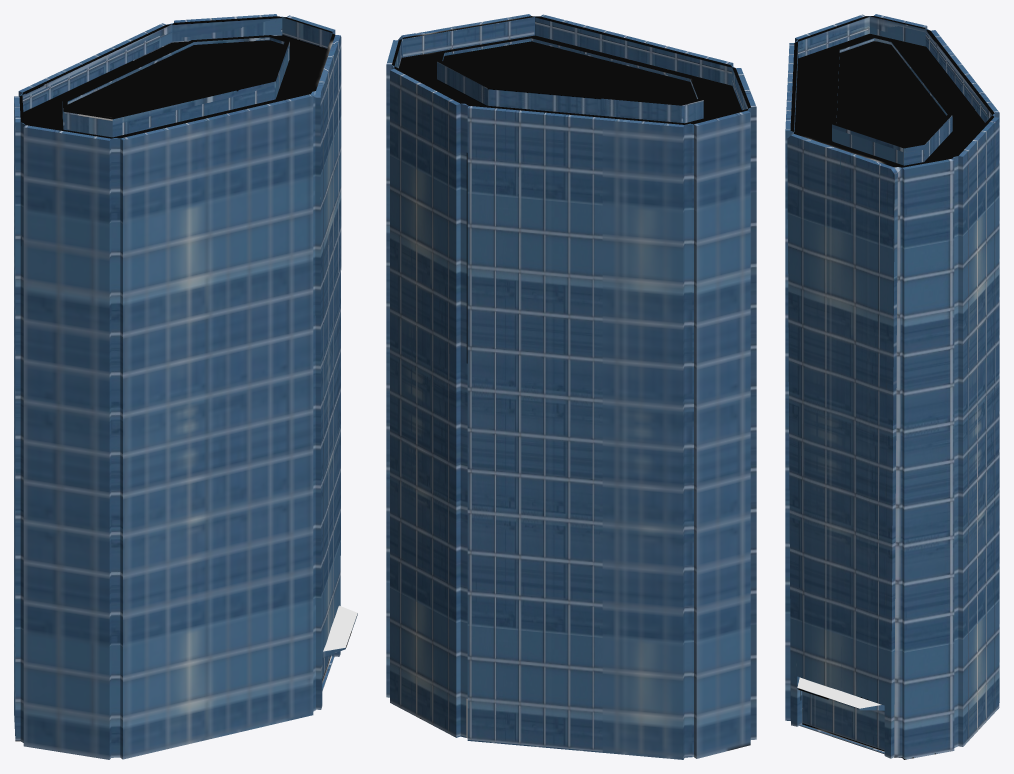
File: 125 Old Broad St (Marked).glb
3 renders of one model, left to right at view 1: azimuth 30°, elevation 25°; view 2: azimuth 150°, elevation 25°; view 3: azimuth 270°, elevation 25°, orthographic. The views are drawn at different scales.
Parts seen in each view (by area): view 1: 125 OldBroad Run, 125 OldBroad Run.022, 125 OldBroad Run.024, 125 OldBroad Run.023, 125 OldBroad Run.026, 125 OldBroad Run.028, 125 OldBroad Run.032, 125 OldBroad Run.027, 125 OldBroad Run.025, 125 OldBroad Run.030, 125 OldBroad Run.029, 125 OldBroad Run.031 (+7 smaller); view 2: 125 OldBroad Run, 125 OldBroad Run.015, 125 OldBroad Run.018, 125 OldBroad Run.020, 125 OldBroad Run.012, 125 OldBroad Run.013, 125 OldBroad Run.017, 125 OldBroad Run.021, 125 OldBroad Run.016, 125 OldBroad Run.019, 125 OldBroad Run.014, 125 OldBroad Run.009 (+3 smaller); view 3: 125 OldBroad Run, 125 OldBroad Run.006, 125 OldBroad Run.007, 125 OldBroad Run.003, 125 OldBroad Run.001, 125 OldBroad Run.005, 125 OldBroad Run.002, 125 OldBroad Run.004, 125 OldBroad Run.009, 125 OldBroad Run.010, 125 OldBroad Run.011, 125 OldBroad Run.008.
Part boxes in pixels (left/top/right/bottom): 125 OldBroad Run: left=14, top=14, right=357, bottom=759; 125 OldBroad Run.022: left=23, top=127, right=52, bottom=750; 125 OldBroad Run.024: left=81, top=136, right=109, bottom=759; 125 OldBroad Run.023: left=52, top=132, right=80, bottom=755; 125 OldBroad Run.026: left=146, top=129, right=170, bottom=753; 125 OldBroad Run.028: left=194, top=118, right=218, bottom=742; 125 OldBroad Run.032: left=289, top=96, right=313, bottom=720; 125 OldBroad Run.027: left=170, top=124, right=194, bottom=748; 125 OldBroad Run.025: left=123, top=135, right=146, bottom=759; 125 OldBroad Run.030: left=242, top=107, right=265, bottom=731; 125 OldBroad Run.029: left=218, top=112, right=241, bottom=737; 125 OldBroad Run.031: left=266, top=101, right=289, bottom=725; 125 OldBroad Run: left=386, top=14, right=756, bottom=759; 125 OldBroad Run.015: left=548, top=115, right=575, bottom=750; 125 OldBroad Run.018: left=629, top=122, right=656, bottom=757; 125 OldBroad Run.020: left=696, top=119, right=723, bottom=758; 125 OldBroad Run.012: left=467, top=108, right=494, bottom=743; 125 OldBroad Run.013: left=494, top=110, right=521, bottom=745; 125 OldBroad Run.017: left=602, top=120, right=629, bottom=755; 125 OldBroad Run.021: left=723, top=112, right=750, bottom=751; 125 OldBroad Run.016: left=575, top=117, right=602, bottom=752; 125 OldBroad Run.019: left=656, top=125, right=683, bottom=759; 125 OldBroad Run.014: left=521, top=113, right=548, bottom=747; 125 OldBroad Run.009: left=406, top=79, right=423, bottom=719; 125 OldBroad Run: left=785, top=14, right=999, bottom=759; 125 OldBroad Run.006: left=904, top=165, right=929, bottom=759; 125 OldBroad Run.007: left=929, top=160, right=954, bottom=755; 125 OldBroad Run.003: left=830, top=149, right=853, bottom=694; 125 OldBroad Run.001: left=787, top=135, right=812, bottom=726; 125 OldBroad Run.005: left=870, top=163, right=894, bottom=758; 125 OldBroad Run.002: left=809, top=142, right=830, bottom=687; 125 OldBroad Run.004: left=853, top=156, right=873, bottom=700; 125 OldBroad Run.009: left=972, top=137, right=981, bottom=736; 125 OldBroad Run.010: left=981, top=128, right=990, bottom=726; 125 OldBroad Run.011: left=990, top=118, right=999, bottom=716; 125 OldBroad Run.008: left=963, top=147, right=971, bottom=746.
Size of the model in its own units: 58.46 by 103 by 33.87.
Materials: 33 (33 with a texture image).
